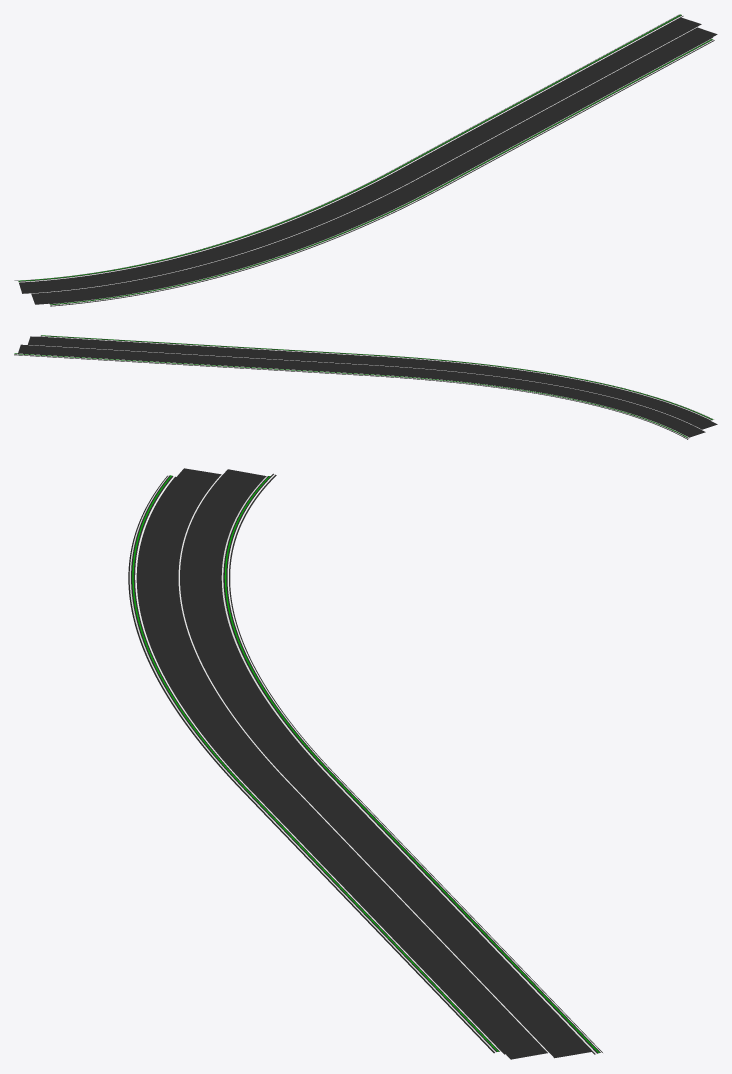
File: Spa.Short.10.glb
3 renders of one model, top to bottom at view 1: azimuth 30°, elevation 25°; view 2: azimuth 150°, elevation 25°; view 3: azimuth 270°, elevation 25°, orthographic. The views are drawn at different scales.
Parts seen in each view (by area): view 1: Track.010; view 2: Track.010; view 3: Track.010.
Boxes of the visible parts, x1,y1,x2,y2 form: Track.010: [14, 14, 717, 306]; Track.010: [14, 335, 717, 439]; Track.010: [128, 468, 602, 1059].
Bounding box in the file's own units: 206 × 0.1549 × 69.95.
